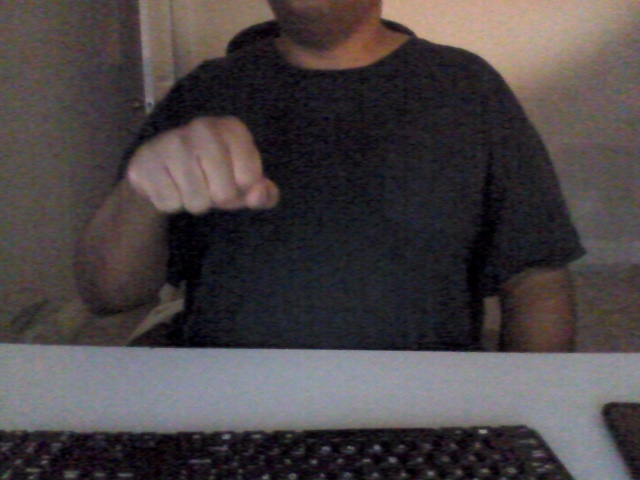yes: (122, 115, 282, 216)
